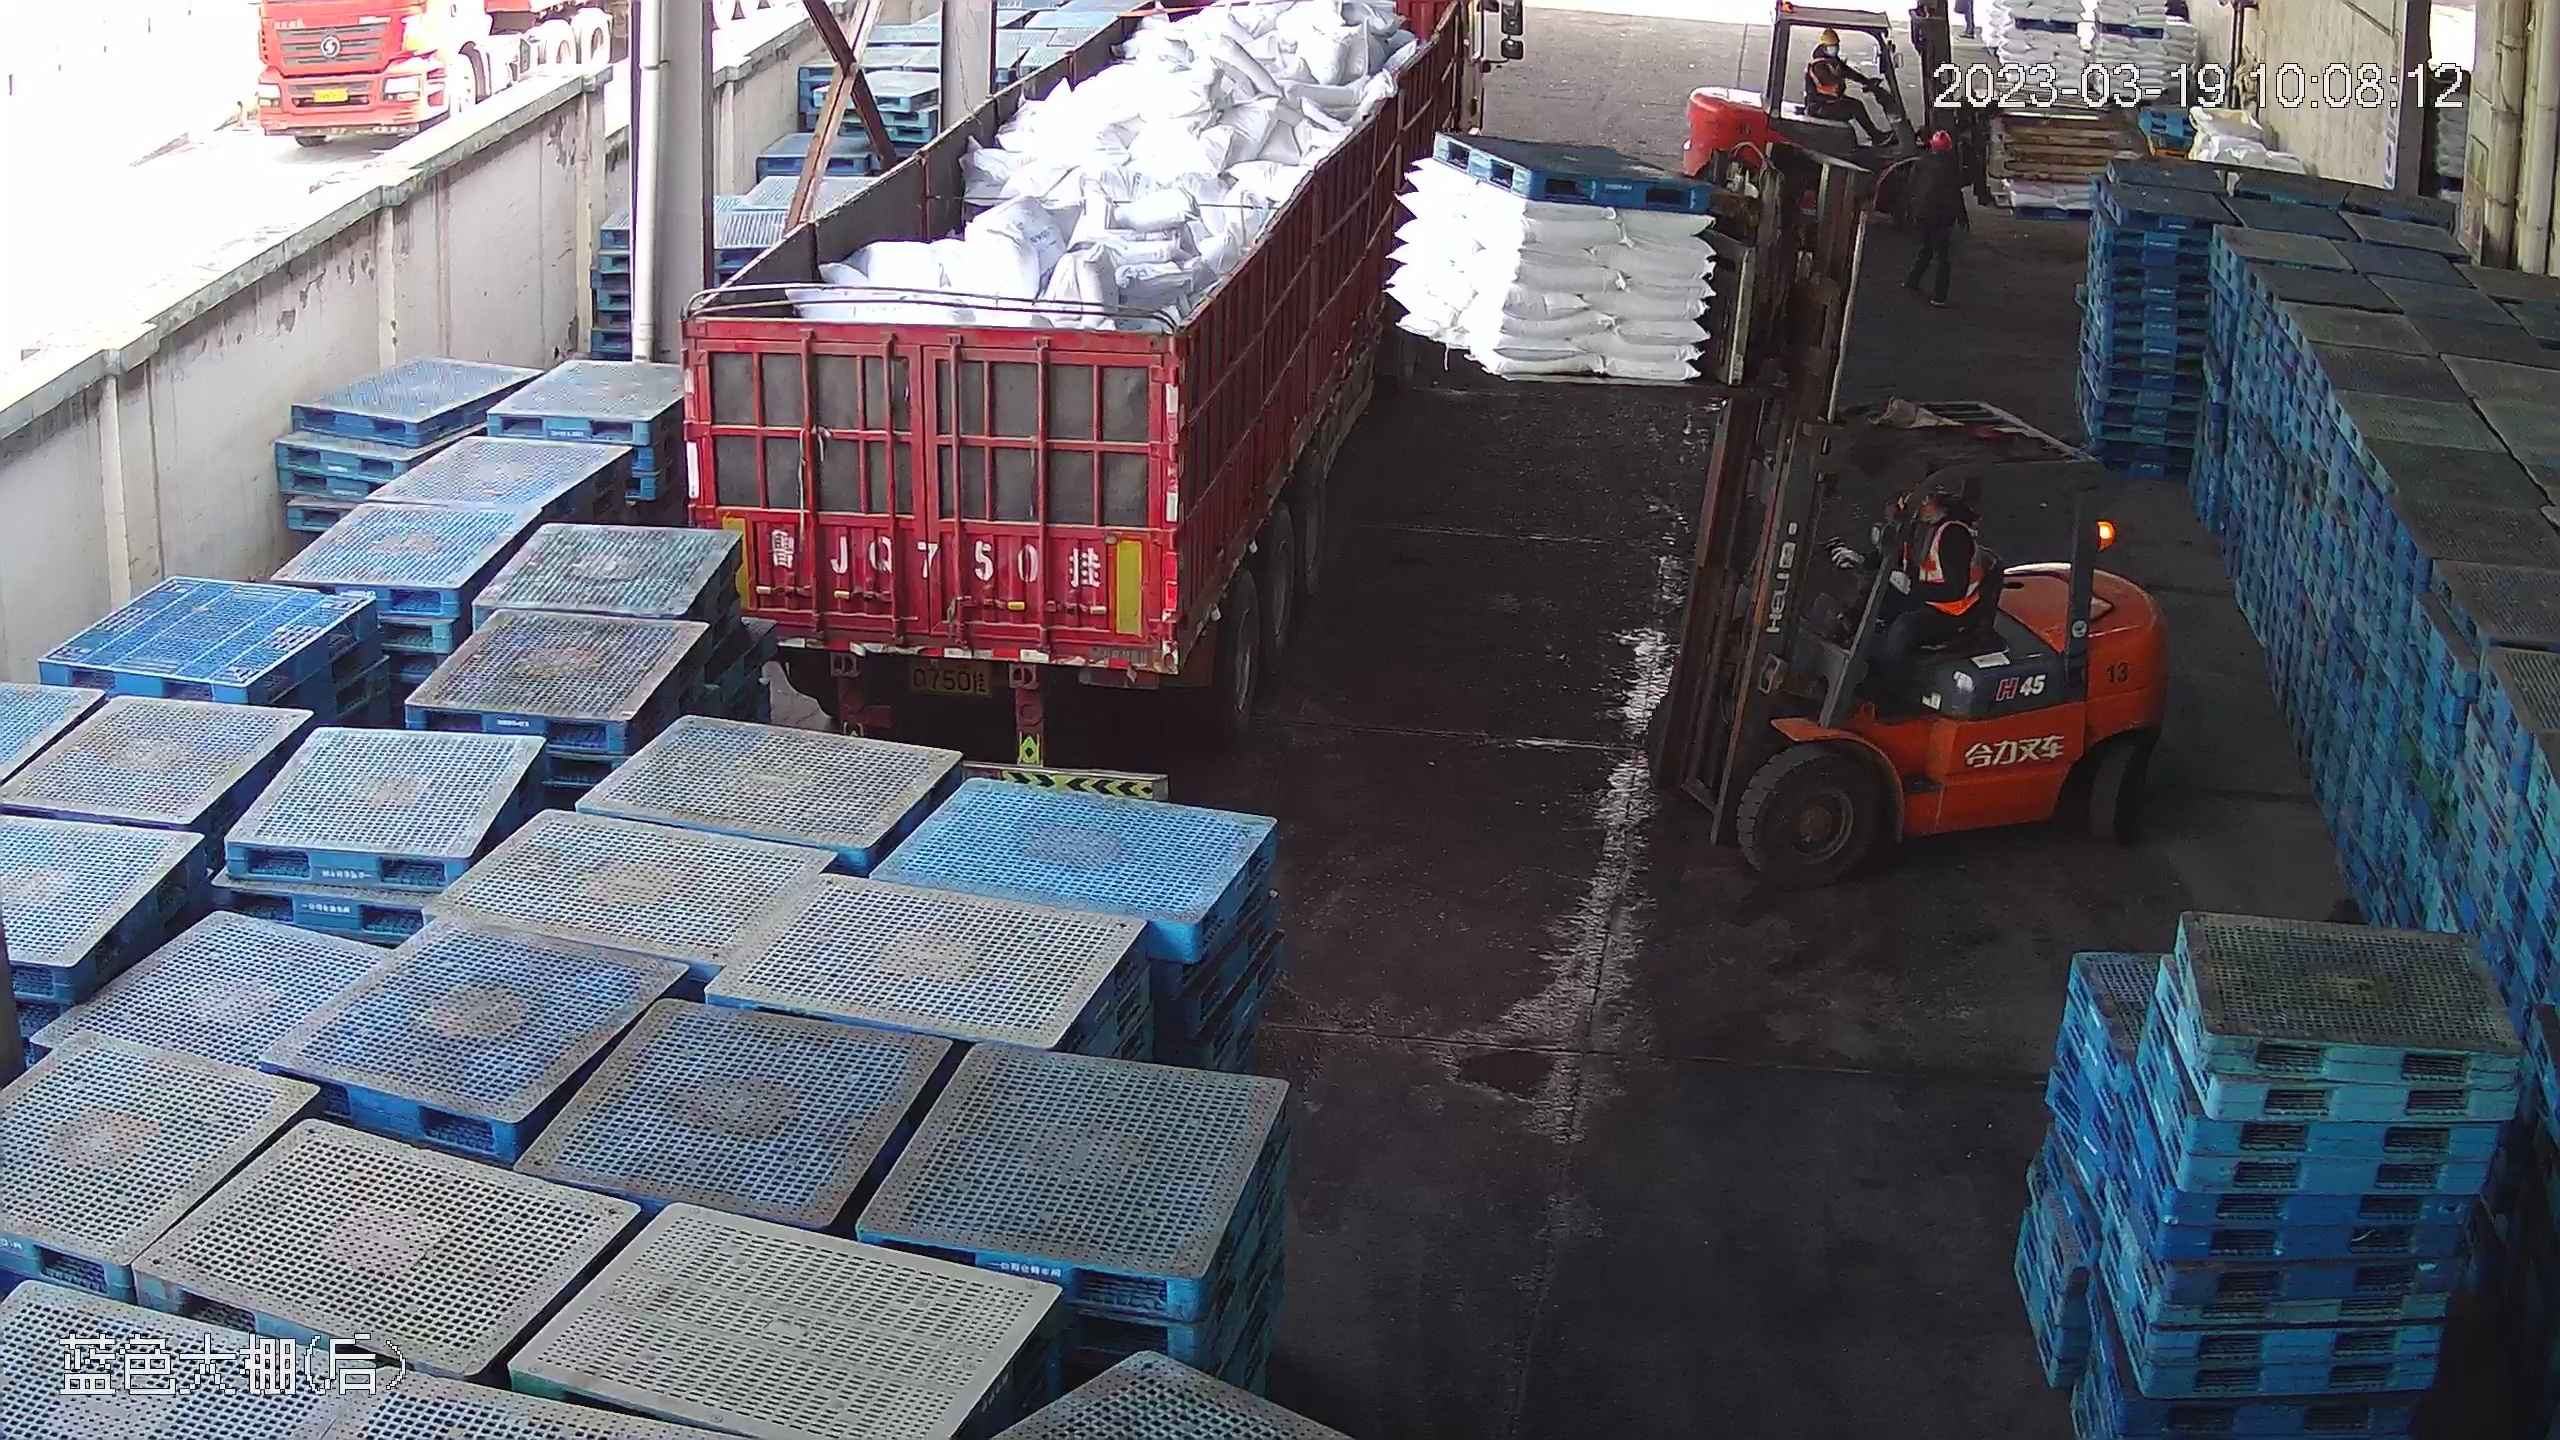head: (1806, 26, 1860, 86), (1913, 129, 1964, 188)
helmet: (1814, 25, 1845, 50), (1925, 129, 1954, 151)
people: (1901, 128, 1969, 311), (1796, 22, 1882, 140), (1804, 25, 1864, 91)
truck: (678, 0, 1509, 781)
